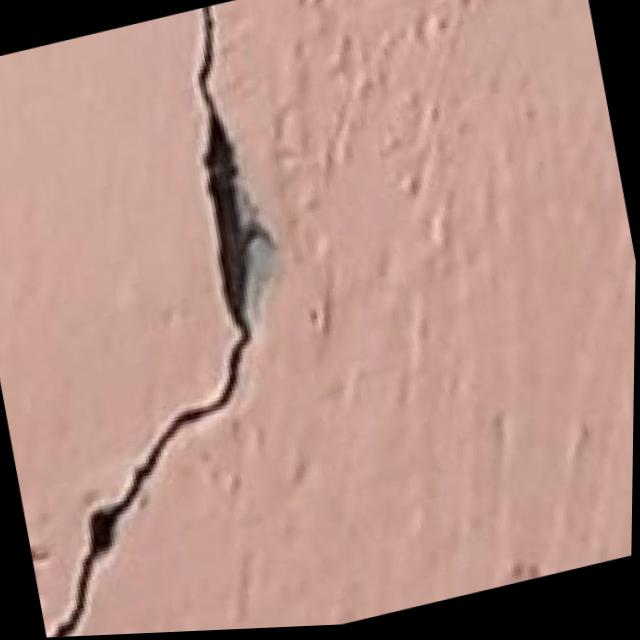Crack: (0, 0, 368, 640)
